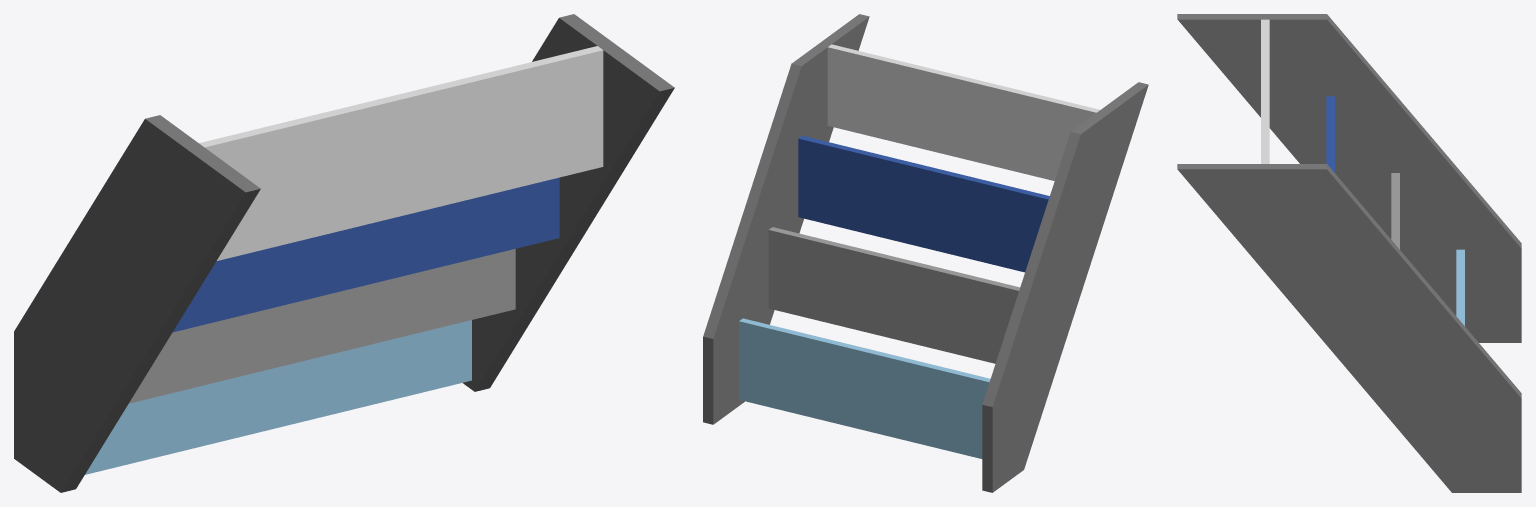
The model's file is ShortStairs.obj.
3 renders of one model, left to right at view 1: azimuth 30°, elevation 25°; view 2: azimuth 150°, elevation 25°; view 3: azimuth 270°, elevation 25°, orthographic. The views are drawn at different scales.
Visible parts, largest first — view 1: mesh6, mesh14, mesh19, mesh0, mesh25, mesh34, mesh37, mesh18, mesh9, mesh17, mesh36; view 2: mesh27, mesh8, mesh2, mesh21, mesh14, mesh34, mesh35, mesh16, mesh9, mesh28, mesh3, mesh22 (+4 smaller); view 3: mesh33, mesh15, mesh9, mesh35, mesh16, mesh17, mesh36, mesh28, mesh22, mesh3.
Part boxes in pixels (<box>): mesh6: <box>205,50,603,260</box>; mesh14: <box>14,119,245,492</box>; mesh19: <box>173,177,559,332</box>; mesh0: <box>129,249,515,403</box>; mesh25: <box>85,320,471,474</box>; mesh34: <box>463,18,659,391</box>; mesh37: <box>475,88,674,391</box>; mesh18: <box>61,189,260,492</box>; mesh9: <box>199,46,602,147</box>; mesh17: <box>145,115,260,192</box>; mesh36: <box>559,14,674,91</box>; mesh27: <box>739,321,989,458</box>; mesh8: <box>827,47,1096,180</box>; mesh2: <box>768,230,1018,363</box>; mesh21: <box>798,138,1048,272</box>; mesh14: <box>992,85,1148,492</box>; mesh34: <box>713,17,869,424</box>; mesh35: <box>703,63,801,338</box>; mesh16: <box>982,132,1080,406</box>; mesh9: <box>828,44,1099,112</box>; mesh28: <box>739,318,990,382</box>; mesh3: <box>769,227,1019,290</box>; mesh22: <box>798,135,1049,199</box>; mesh33: <box>1177,169,1521,492</box>; mesh15: <box>1178,19,1521,342</box>; mesh9: <box>1261,19,1269,163</box>; mesh35: <box>1327,164,1521,398</box>; mesh16: <box>1327,14,1521,248</box>; mesh17: <box>1177,14,1326,19</box>; mesh36: <box>1177,164,1326,169</box>; mesh28: <box>1456,249,1464,325</box>; mesh22: <box>1326,96,1334,172</box>; mesh3: <box>1391,173,1399,249</box>.
Bounding box in the file's own units: 1.08 × 1.04 × 1.01.
